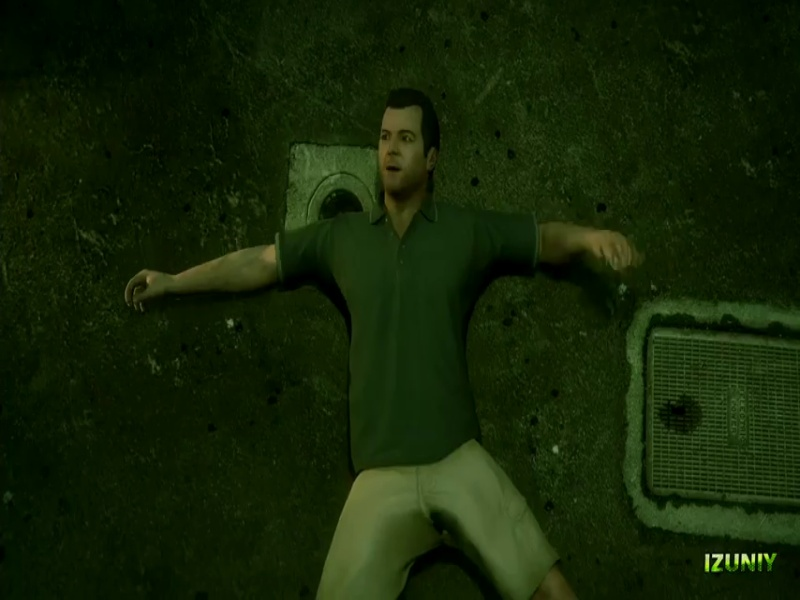human: (119, 72, 648, 498)
